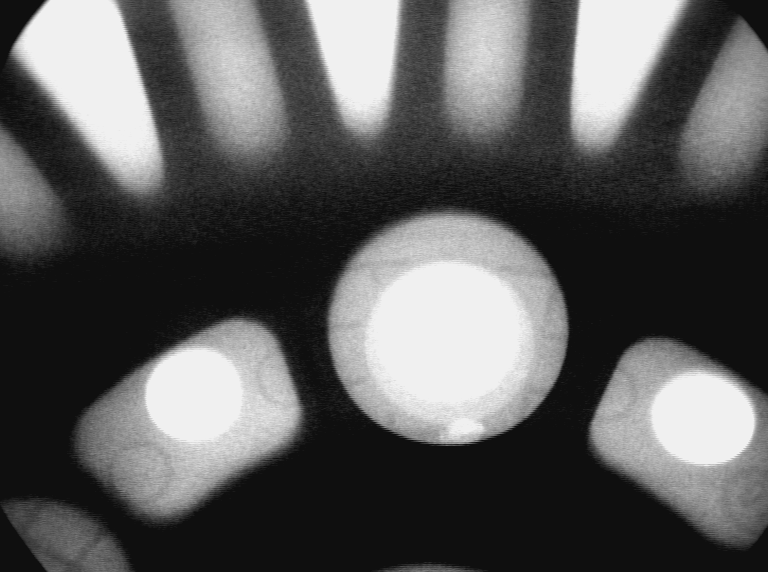defect: (444, 417, 486, 450)
